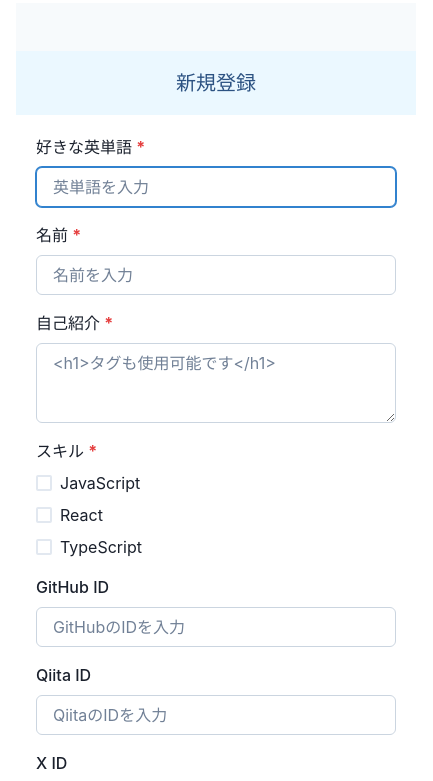
Register Component › 自己紹介が未入力状態で登録された場合に、エラーメッセージが表示されること
# 自己紹介以外を入力
Type "testuser" into the field with test id "user-id-input".
click(216, 187); type("testuser")  # box [36, 167, 396, 207]
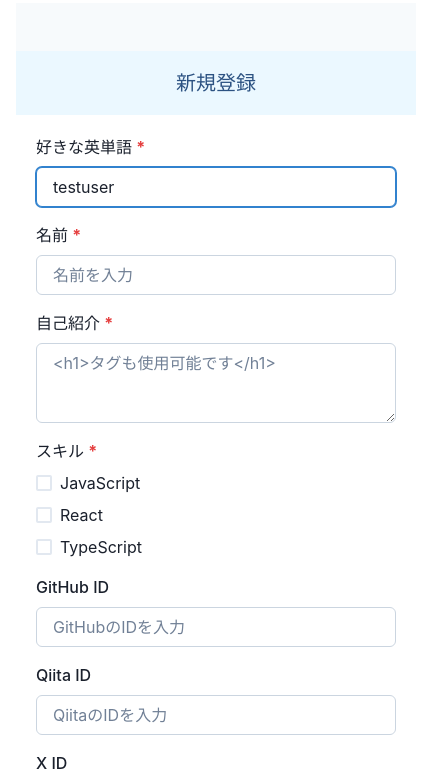
Type "テストユーザー" into the field with test id "name-input".
click(216, 275); type("テストユーザー")  # box [36, 255, 396, 295]
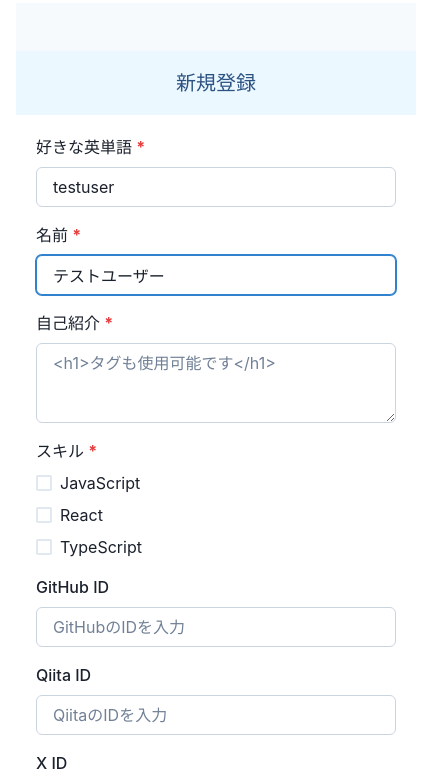
Click the text "JavaScript".
click(100, 483)  # box [60, 471, 140, 495]
(page scrolled)
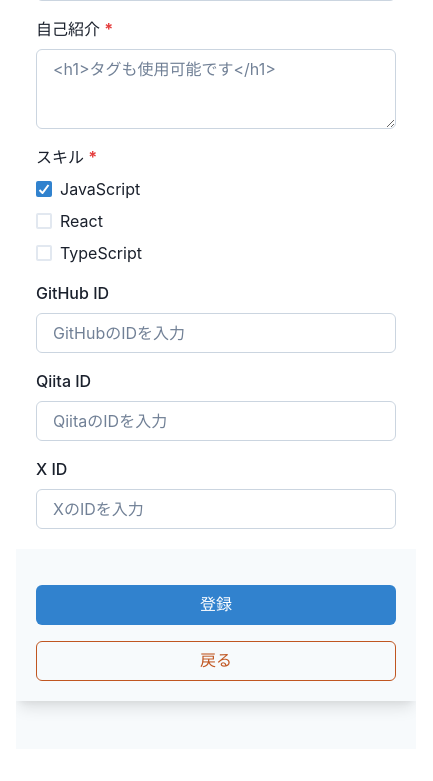
Click the button with test id "register-button".
click(216, 605)  # box [36, 585, 396, 625]
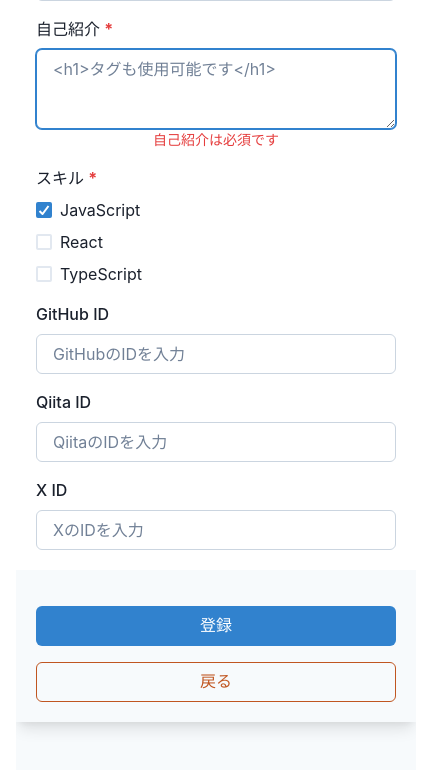
Expected: the text "自己紹介は必須です" is shown, [153, 131, 279, 148]
